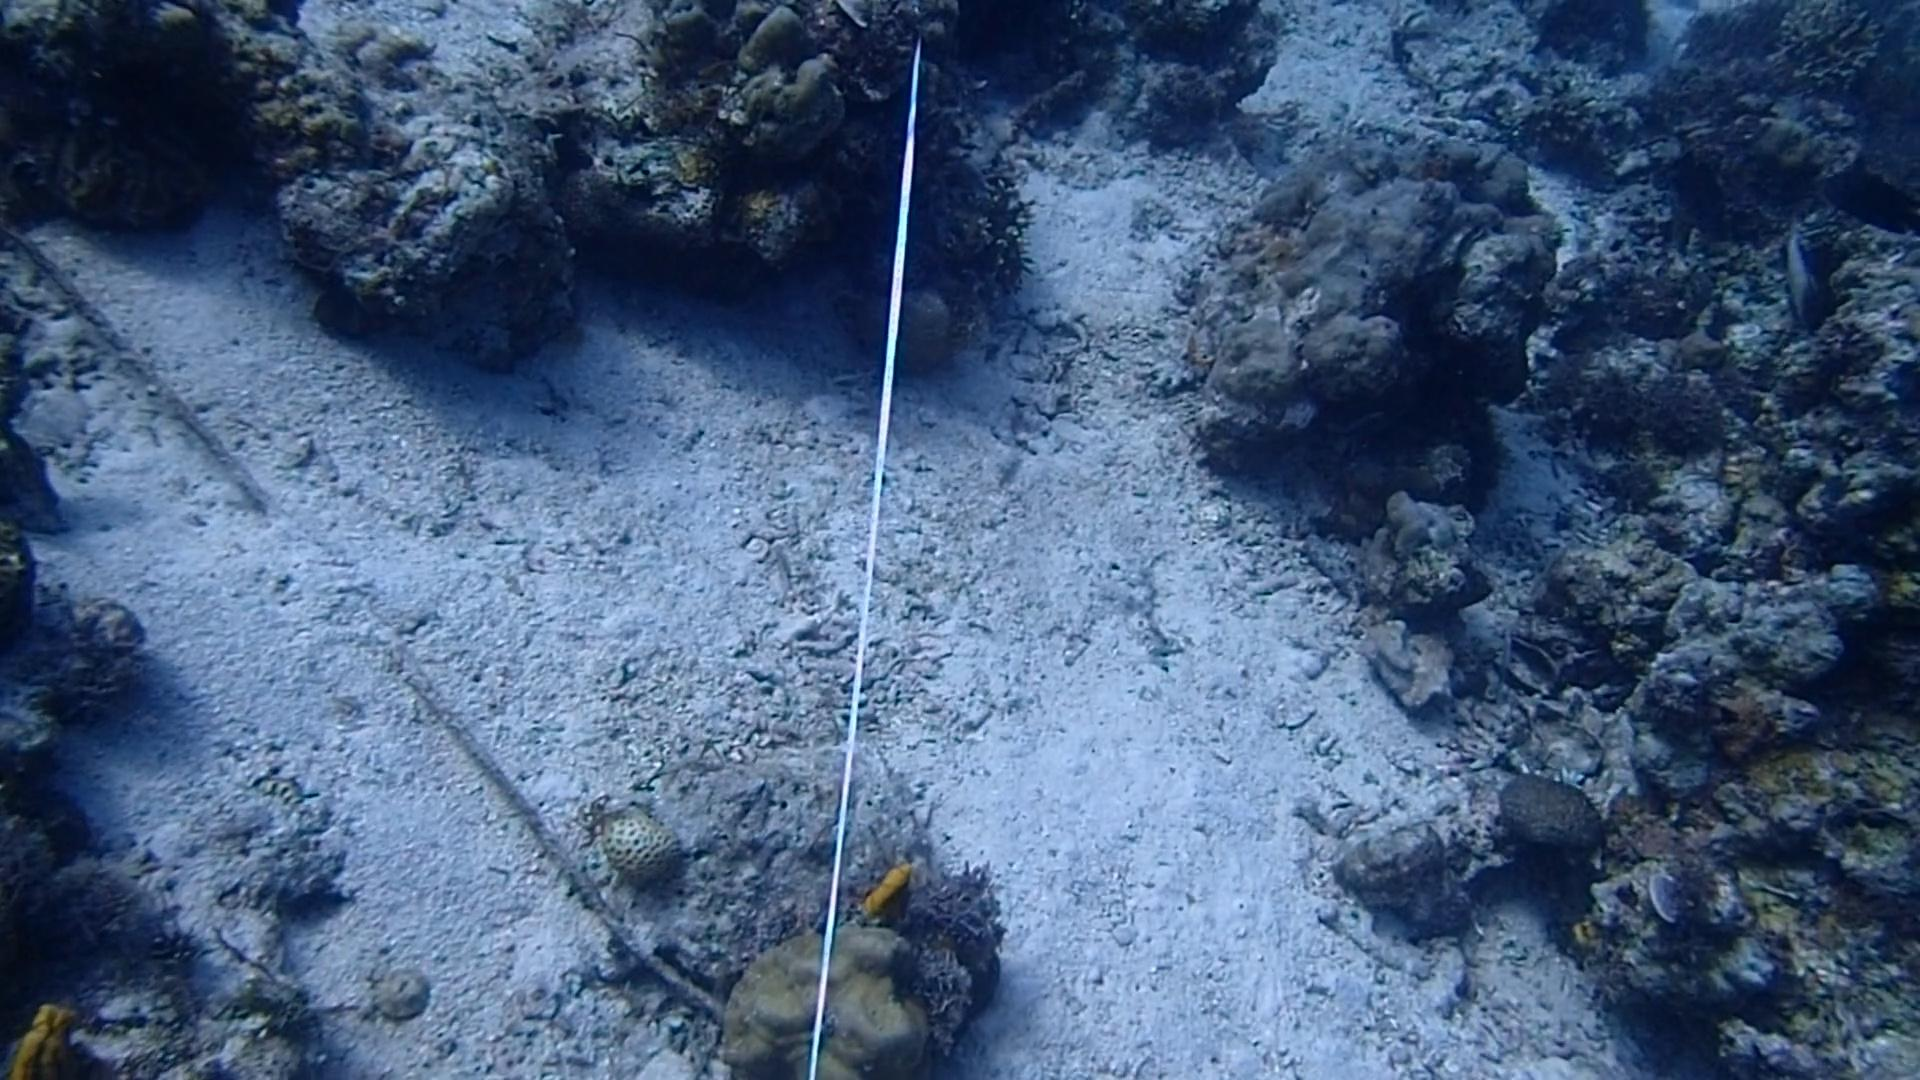Dark Fish: (1816, 157, 1920, 240), (1660, 154, 1739, 248)
